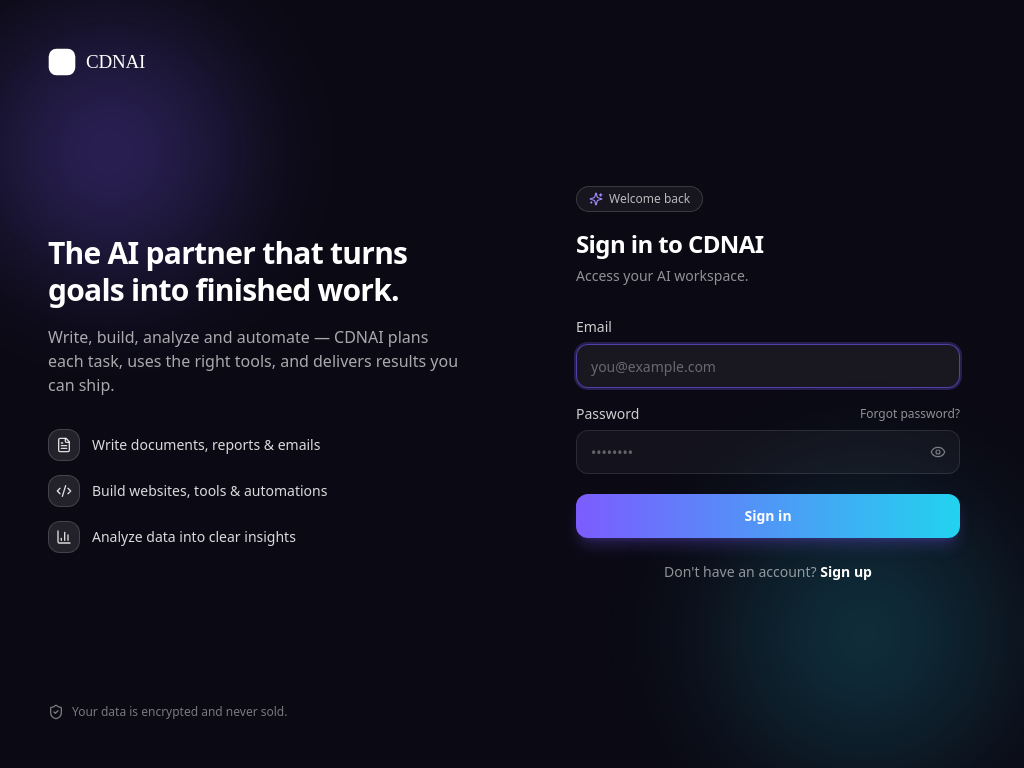
SupabaseAuthPage forgot-password mode › shows the admin contact in forgot mode
The width and height of the screenshot is (1024, 768).
Click the button "Forgot password?" at (910, 414), box x1=860 y1=406 x2=960 y2=422
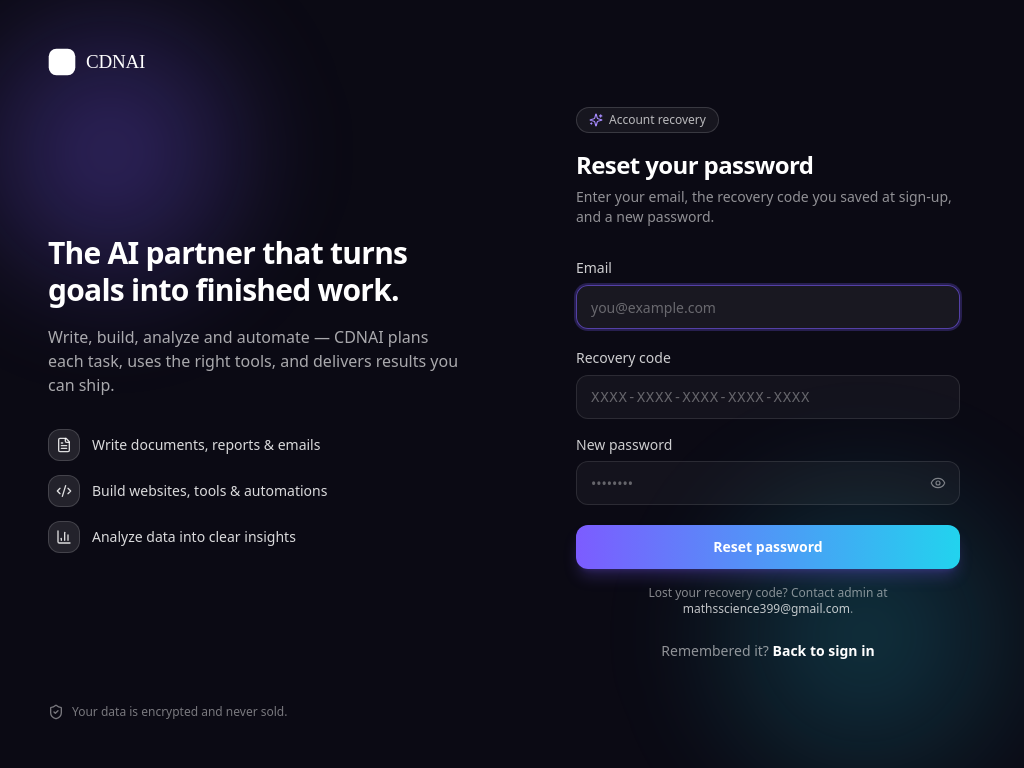
Expected: the link "mathsscience399@gmail.com" is shown, x1=683 y1=600 x2=850 y2=617
